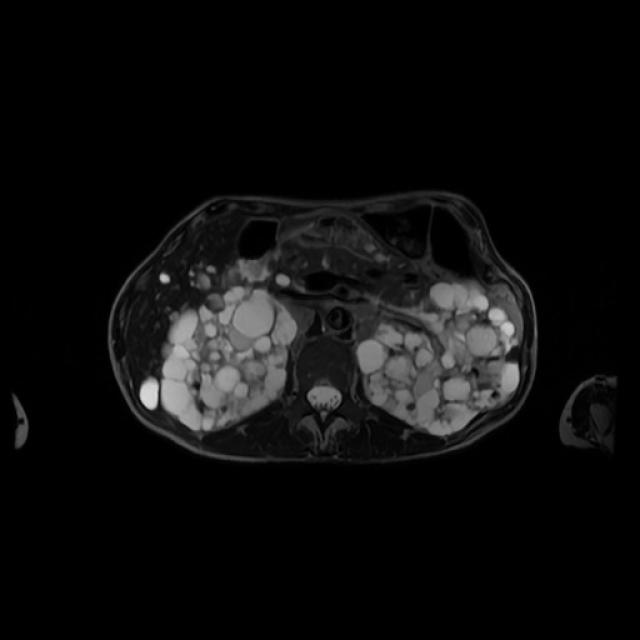sag: (160, 285, 298, 434)
sol: (355, 279, 520, 436)
